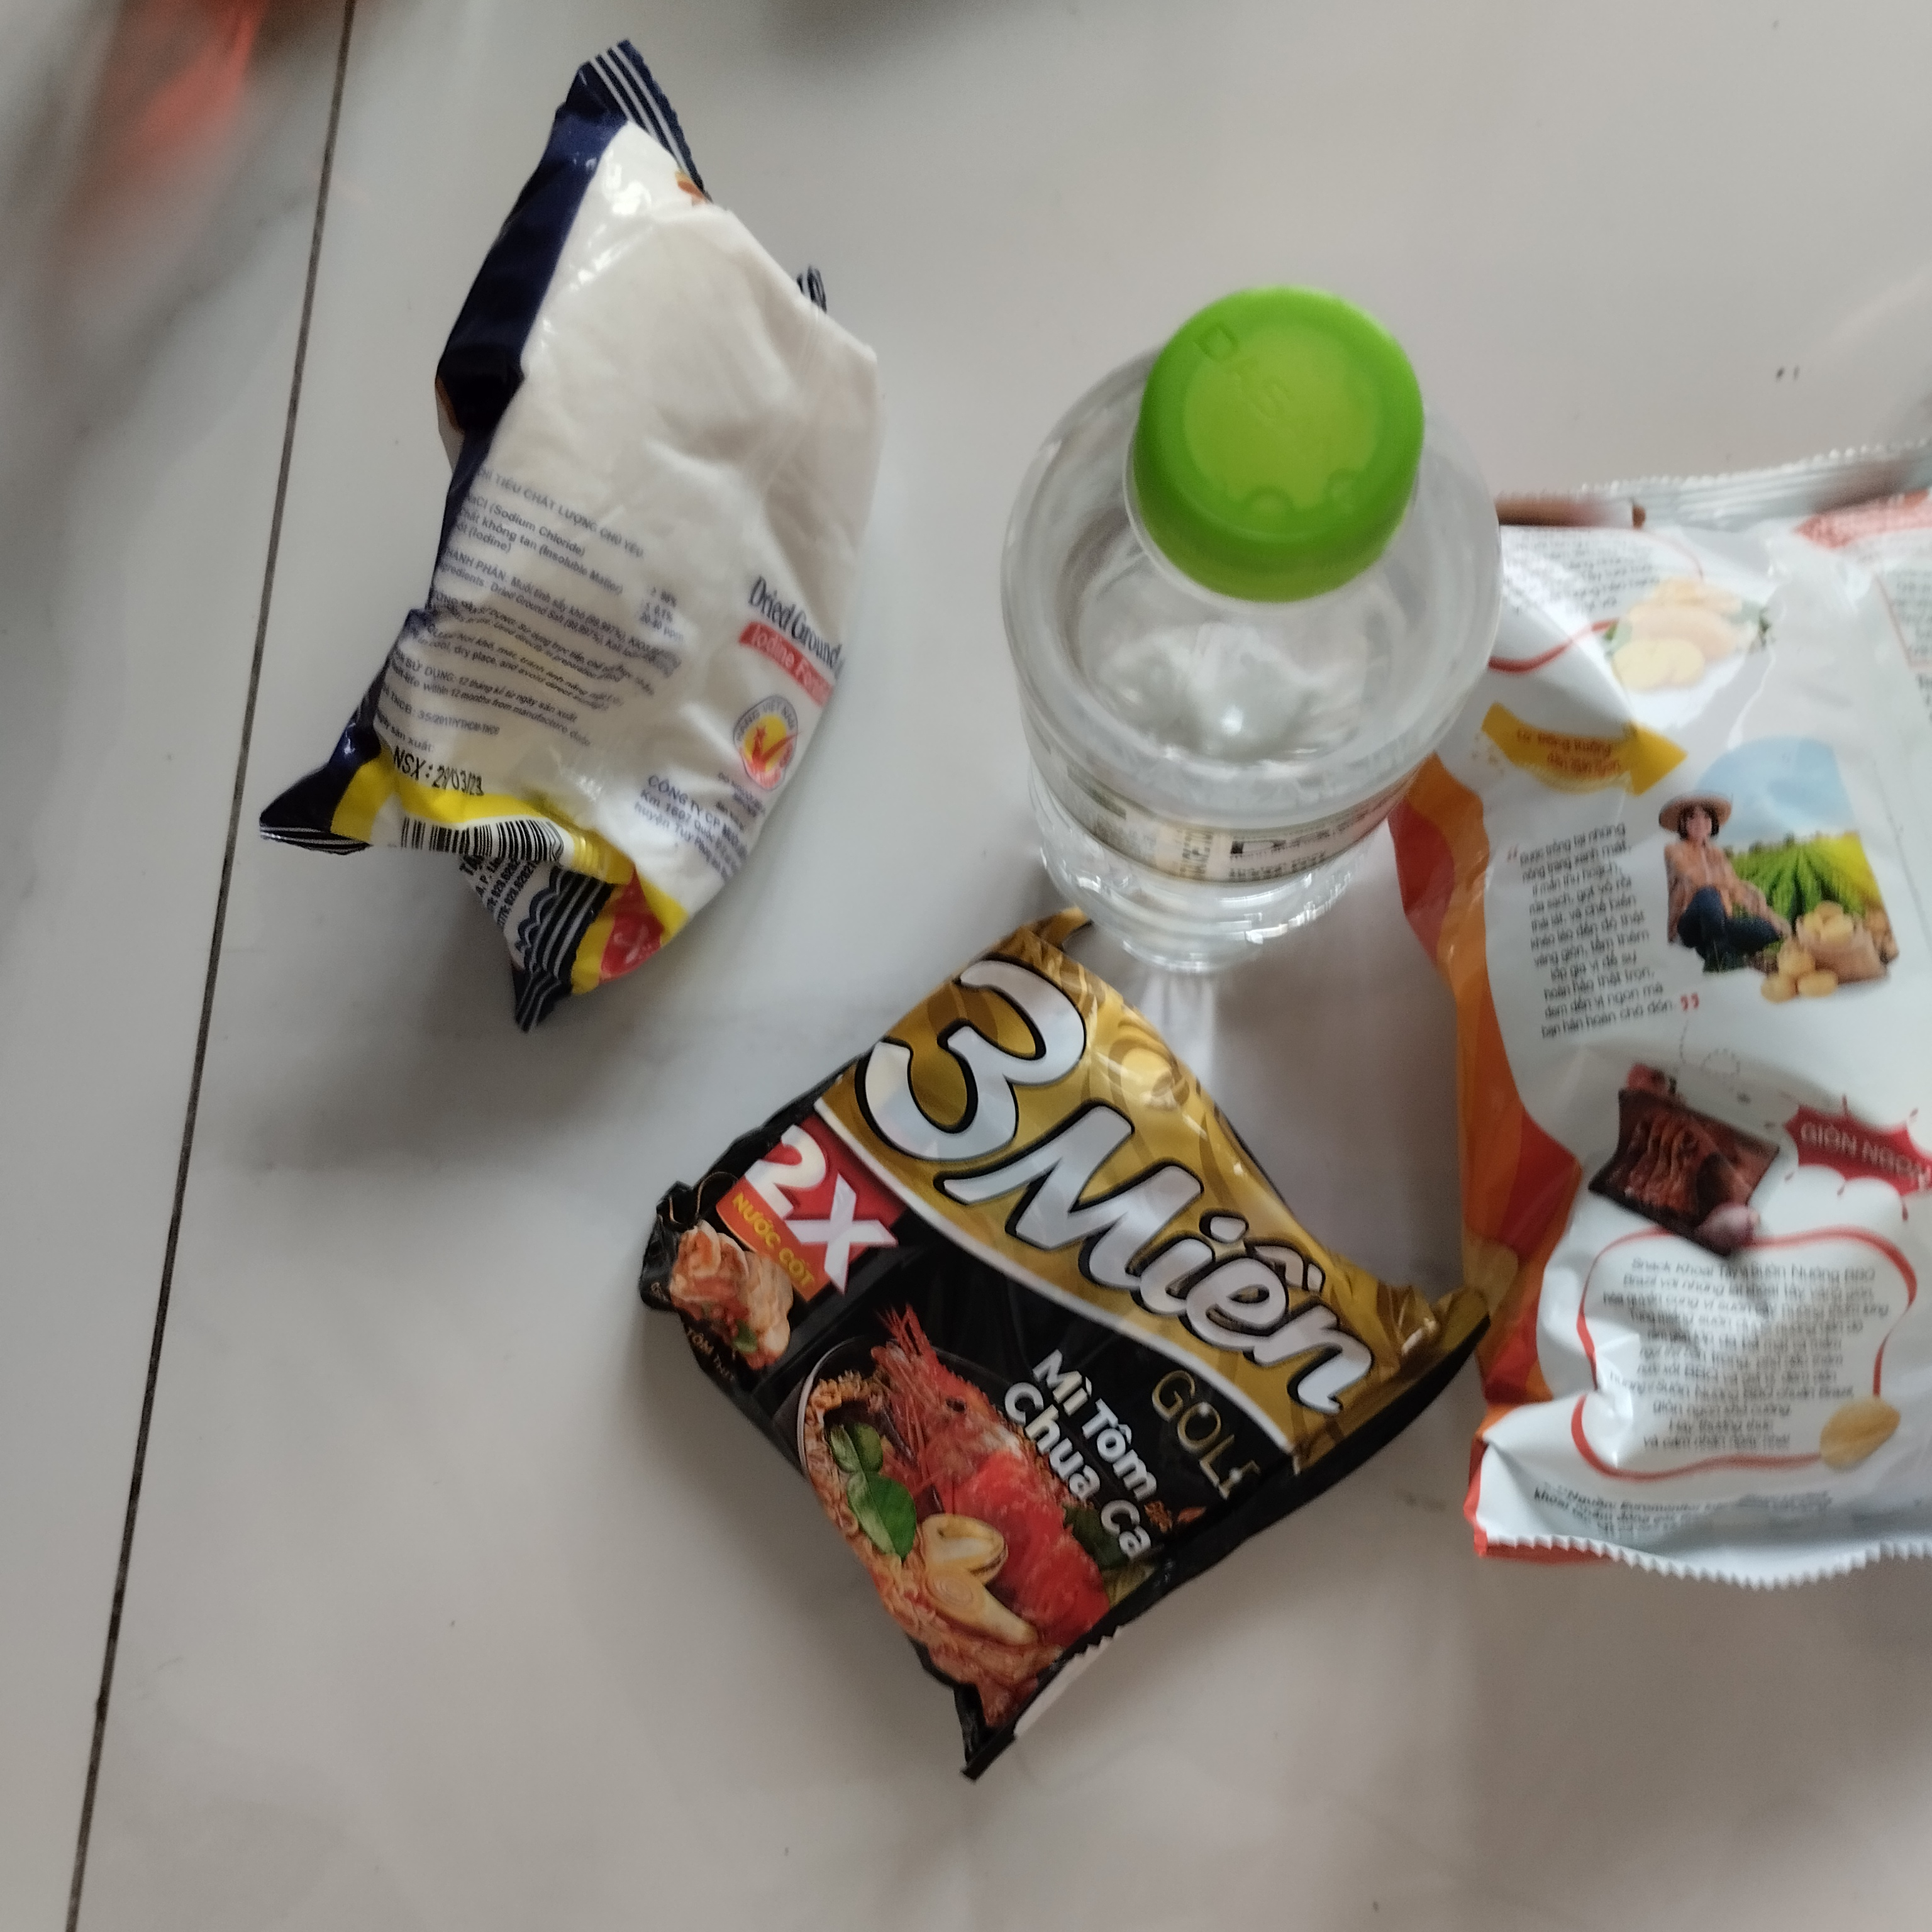3mien: (621, 909, 1490, 1817)
Dasani: (998, 297, 1506, 1019)
Lays: (1368, 414, 1932, 1598)
Salt: (241, 37, 890, 1035)
